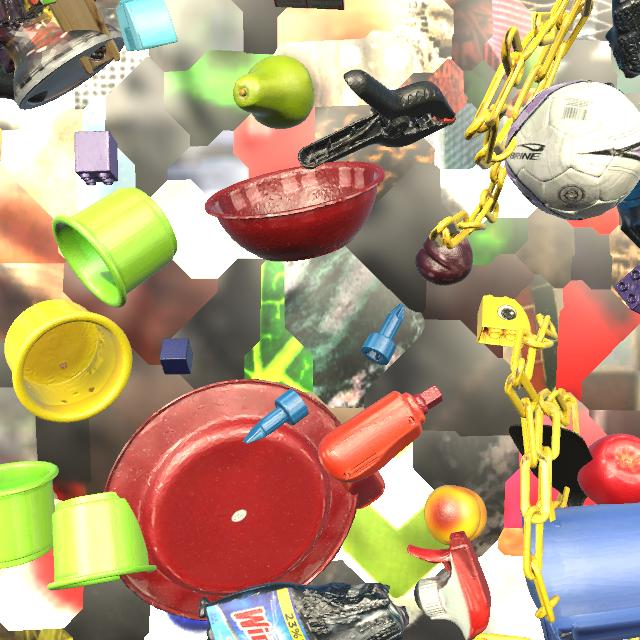ycb_009_gelatin_box: (274, 0, 345, 10)
ycb_013_apple: (577, 434, 640, 504)
ycb_015_peach: (424, 485, 487, 545)
ycb_016_pear: (233, 55, 315, 129)
ycb_018_plum: (415, 231, 473, 286)
